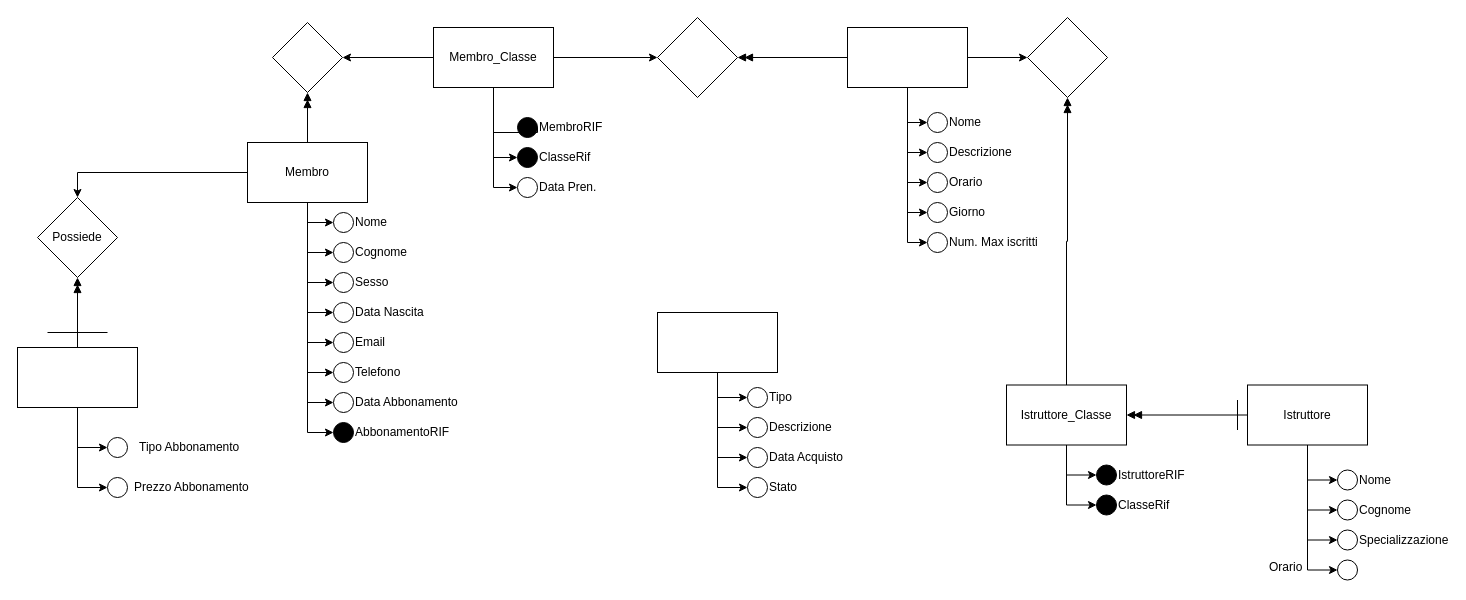
The diagram is 1466 pixels wide and 600 high, and some of its shapes have lost their labels. The centre of each missing label's shape, as x and y in pixels:
Abbonamento: point (77, 377)
Attrezzatura: point (717, 342)
Classe: point (907, 57)
